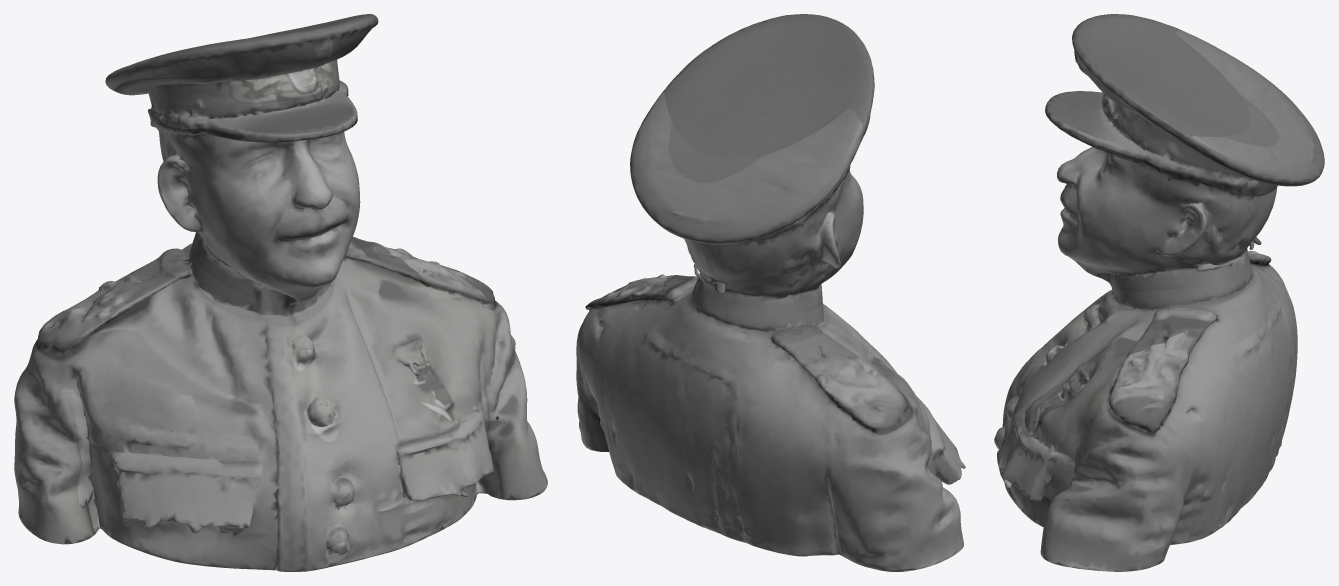
Rendered from stalin-final.glb.
3 renders of one model, left to right at view 1: azimuth 30°, elevation 25°; view 2: azimuth 150°, elevation 25°; view 3: azimuth 270°, elevation 25°, orthographic. The views are drawn at different scales.
Visible parts, largest first — view 1: Stalin Head; view 2: Stalin Head; view 3: Stalin Head.
Boxes of the visible parts, left/top/right/bottom form: Stalin Head: left=14, top=14, right=547, bottom=571; Stalin Head: left=576, top=14, right=965, bottom=571; Stalin Head: left=994, top=14, right=1324, bottom=571.
Bounding box in the file's own units: 0.9485 × 1 × 0.684.
1 material, 1 textured.
